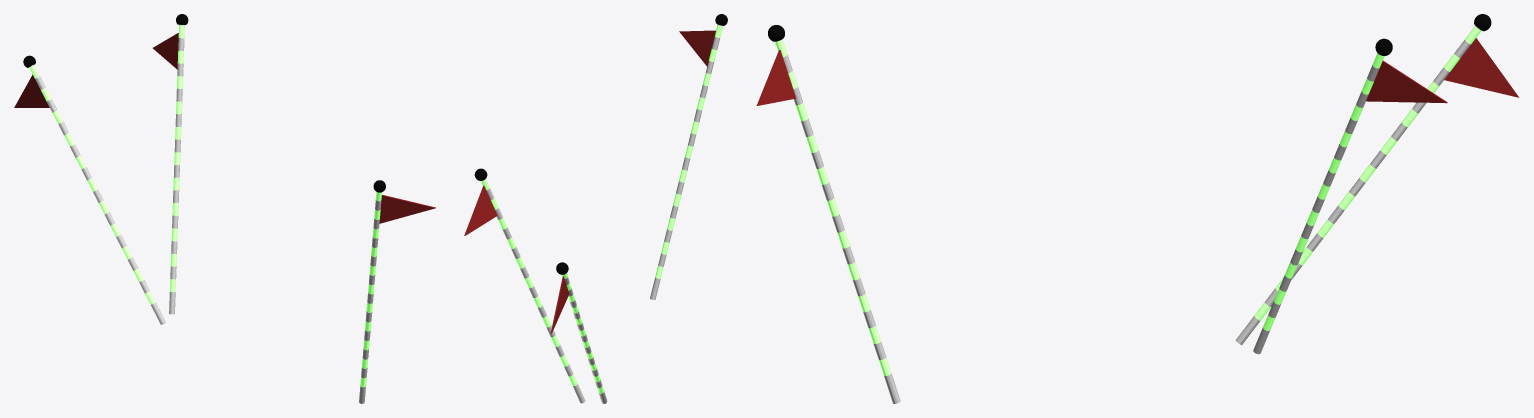
Rendered from Hole 9 Flags.glb.
3 views of the same model, side by side, from view 1: azimuth 30°, elevation 25°; view 2: azimuth 150°, elevation 25°; view 3: azimuth 270°, elevation 25° (orthographic). The views are drawn at different scales.
Visible parts, largest first — view 1: Hole 9 Flags; view 2: Hole 9 Flags; view 3: Hole 9 Flags.
Part boxes in pixels (<box>): Hole 9 Flags: <box>14,14,435,403</box>; Hole 9 Flags: <box>464,14,727,403</box>; Hole 9 Flags: <box>756,14,1519,403</box>.
Bounding box in the file's own units: 1.19 × 1.97 × 3.77.
